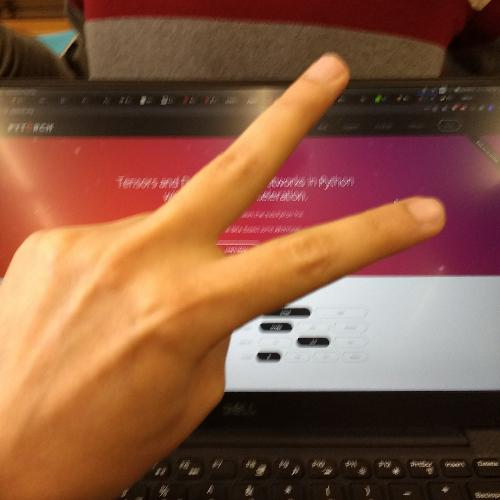scissors: (1, 47, 451, 500)
